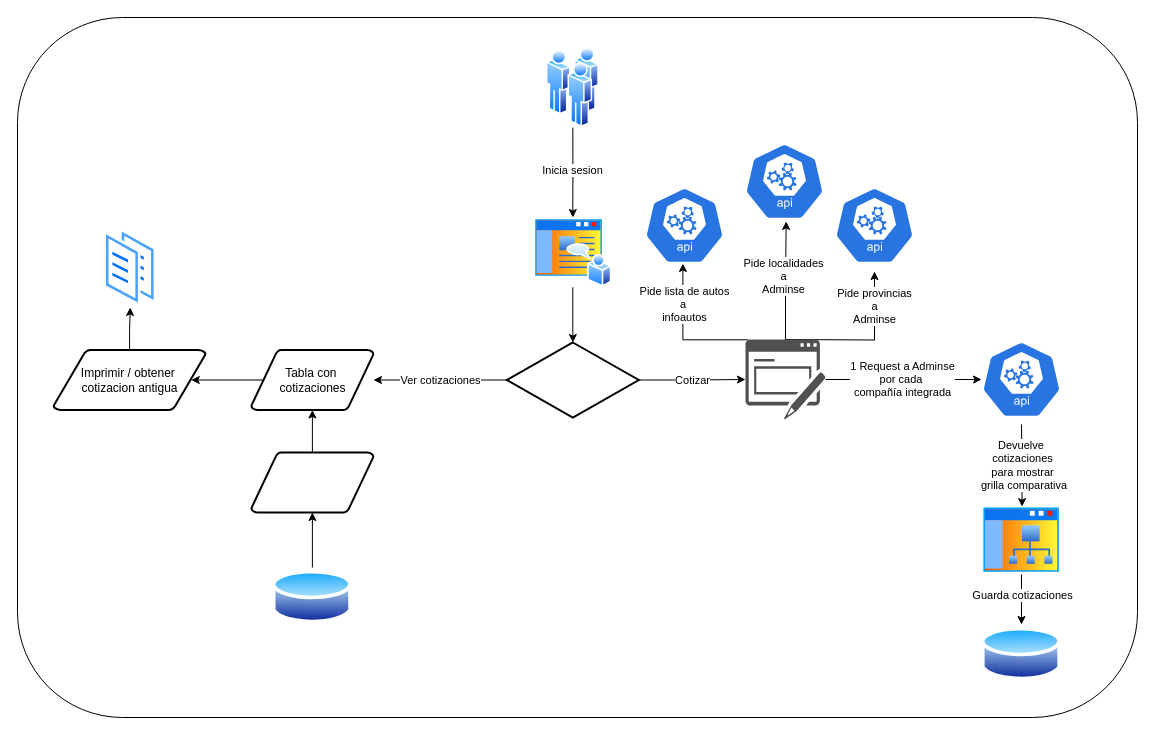
Image size: 1155x735. Some labels were removed from this diagram. Here are the shapes that lost their labels. From the top down, the centre of each, then its label:
the point at 572,379: Cotizar / ver cotizaciones
the point at 312,482: Trae cotizaciones
